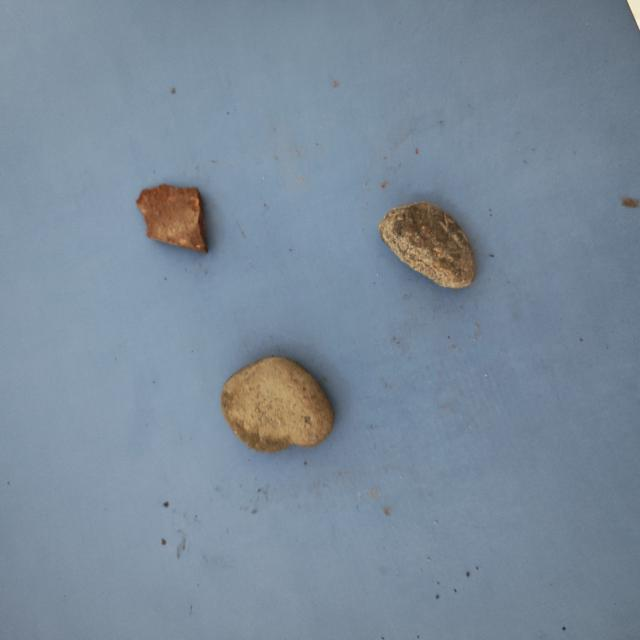-Other waste - brick-: (136, 184, 209, 252)
-Other waste - pebble-: (220, 353, 330, 455), (376, 201, 477, 291)
